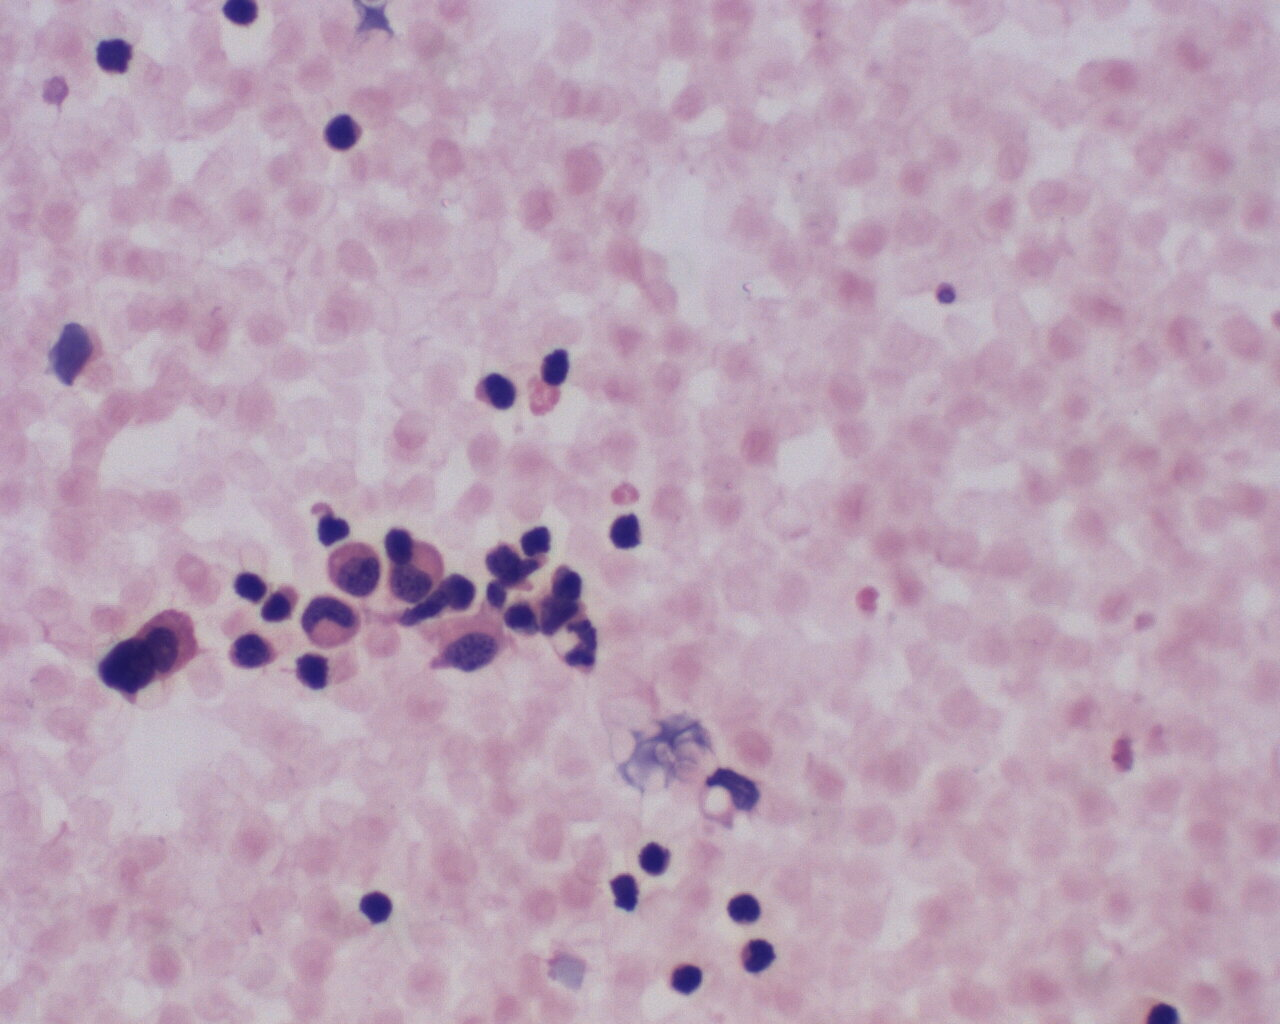ab: (322, 540, 386, 599)
lymph: (467, 363, 525, 419), (321, 107, 373, 160), (736, 933, 784, 981), (358, 883, 400, 933), (720, 888, 765, 929), (666, 958, 705, 999)
